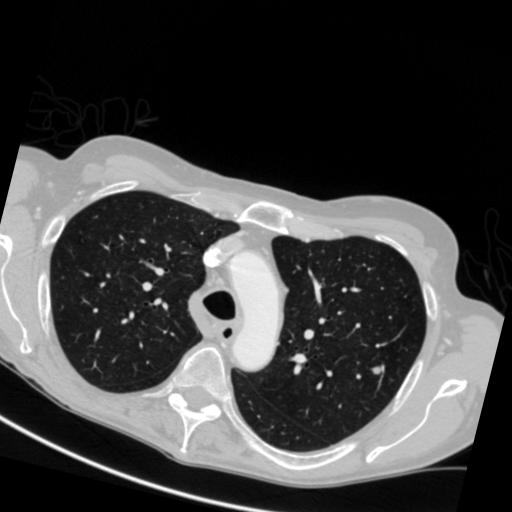nodule: (369, 363, 385, 379)
